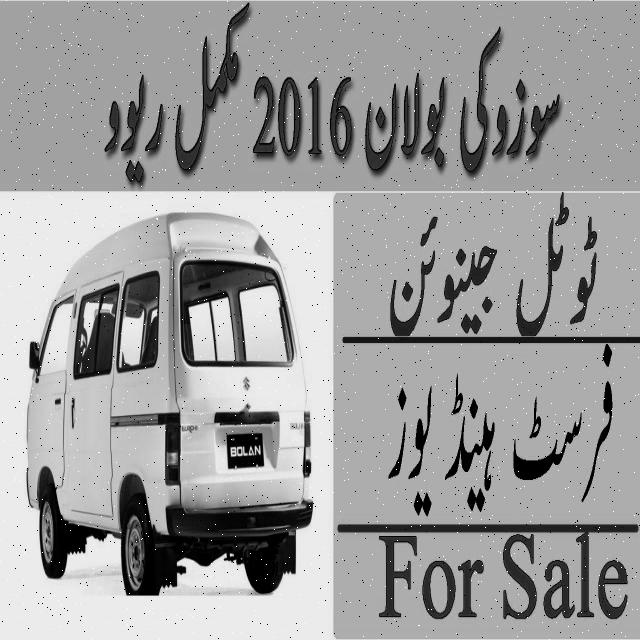Van: (27, 210, 316, 610)
